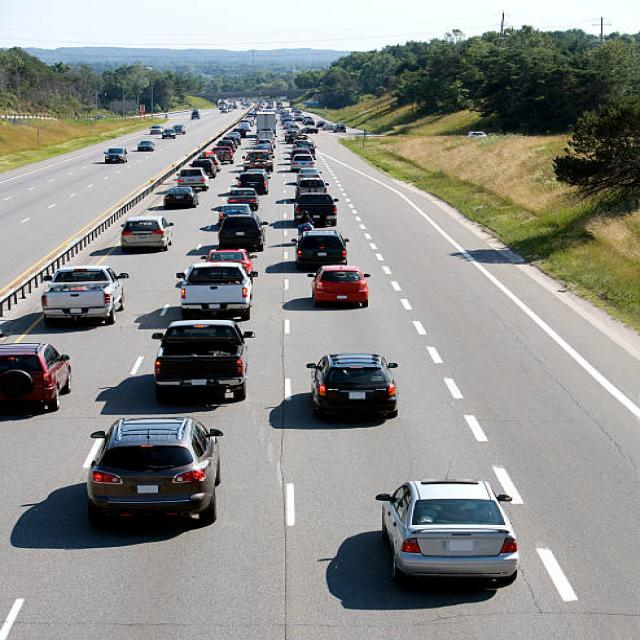Car: (81, 416, 222, 526), (374, 478, 518, 584), (150, 319, 254, 402), (306, 352, 398, 419), (40, 265, 128, 324), (0, 342, 71, 411), (175, 260, 254, 319), (307, 264, 371, 308), (120, 214, 173, 251), (206, 248, 257, 277), (163, 186, 198, 208), (102, 147, 127, 163), (137, 140, 154, 151)
